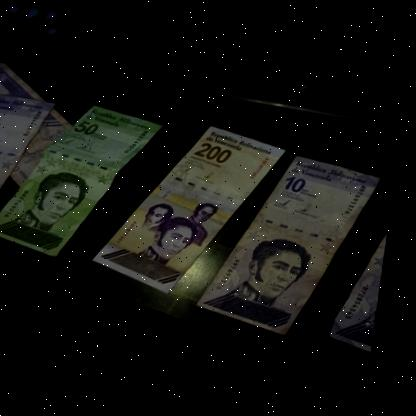fifty-front-vef: (0, 98, 170, 266)
ten-front-vef: (198, 151, 389, 349), (0, 56, 85, 193), (0, 89, 60, 231), (333, 237, 393, 361)
two_hundred-front-vef: (92, 119, 294, 305)
